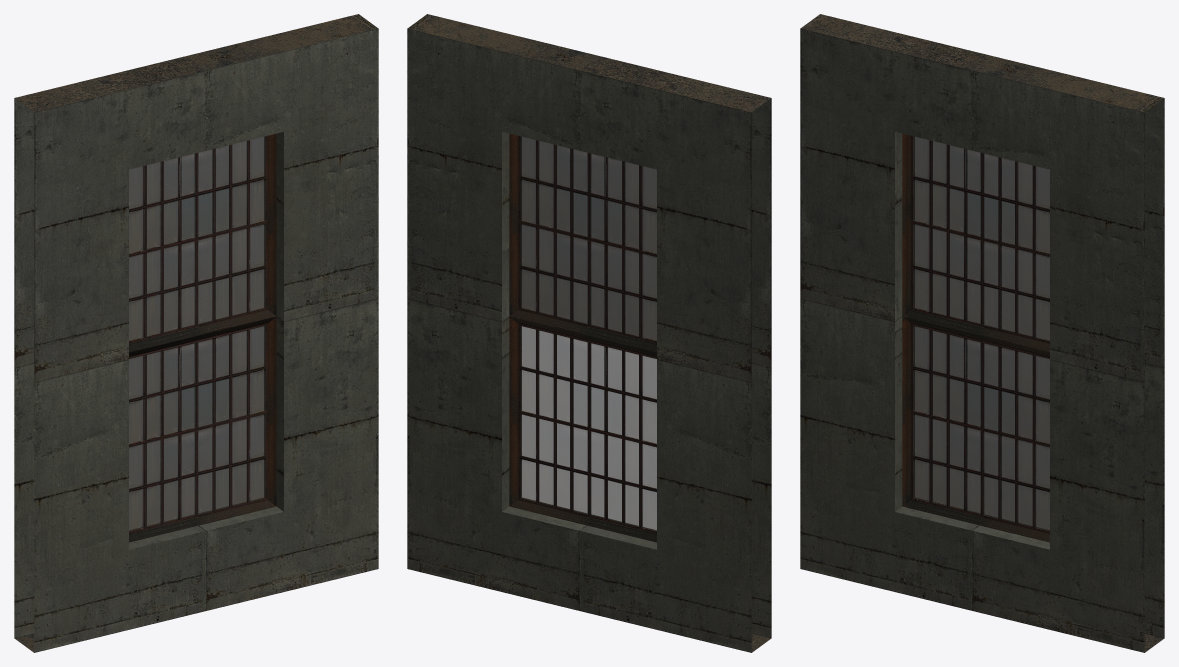
Rendered from wall_rg_1_m_2.fbx.
The picture shows the model from 3 angles, left to right: view 1: azimuth 30°, elevation 25°; view 2: azimuth 150°, elevation 25°; view 3: azimuth 330°, elevation 25°; orthographic projection.
Parts seen in each view (by area): view 1: wall_rg_1_m_2; view 2: wall_rg_1_m_2; view 3: wall_rg_1_m_2.
Boxes of the visible parts, bbox=[...] form: wall_rg_1_m_2: bbox=[14, 14, 378, 652]; wall_rg_1_m_2: bbox=[407, 14, 771, 652]; wall_rg_1_m_2: bbox=[800, 14, 1164, 652].
Size of the model in its own units: 4 by 0.4 by 6.
